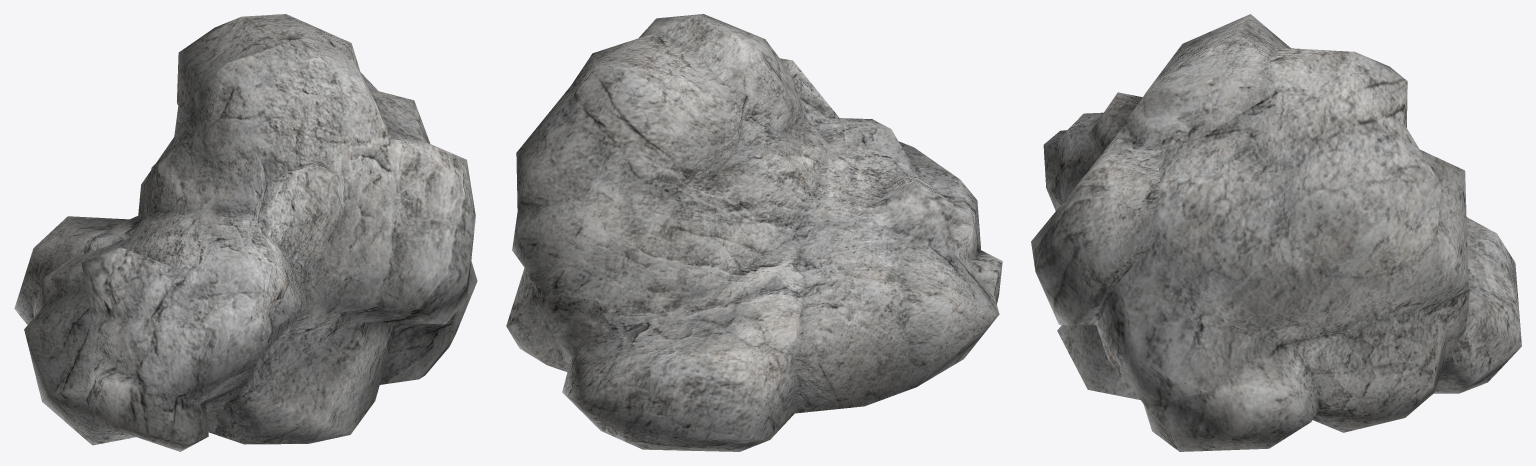
Rendered from rock2.fbx.
3 renders of one model, left to right at view 1: azimuth 30°, elevation 25°; view 2: azimuth 150°, elevation 25°; view 3: azimuth 270°, elevation 25°, orthographic. The views are drawn at different scales.
Parts seen in each view (by area): view 1: rock2; view 2: rock2; view 3: rock2.
Boxes of the visible parts, <box> form: rock2: <box>14,14,477,451</box>; rock2: <box>506,14,1002,451</box>; rock2: <box>1031,14,1521,451</box>.
Size of the model in its own units: 106 by 81.29 by 98.84.
